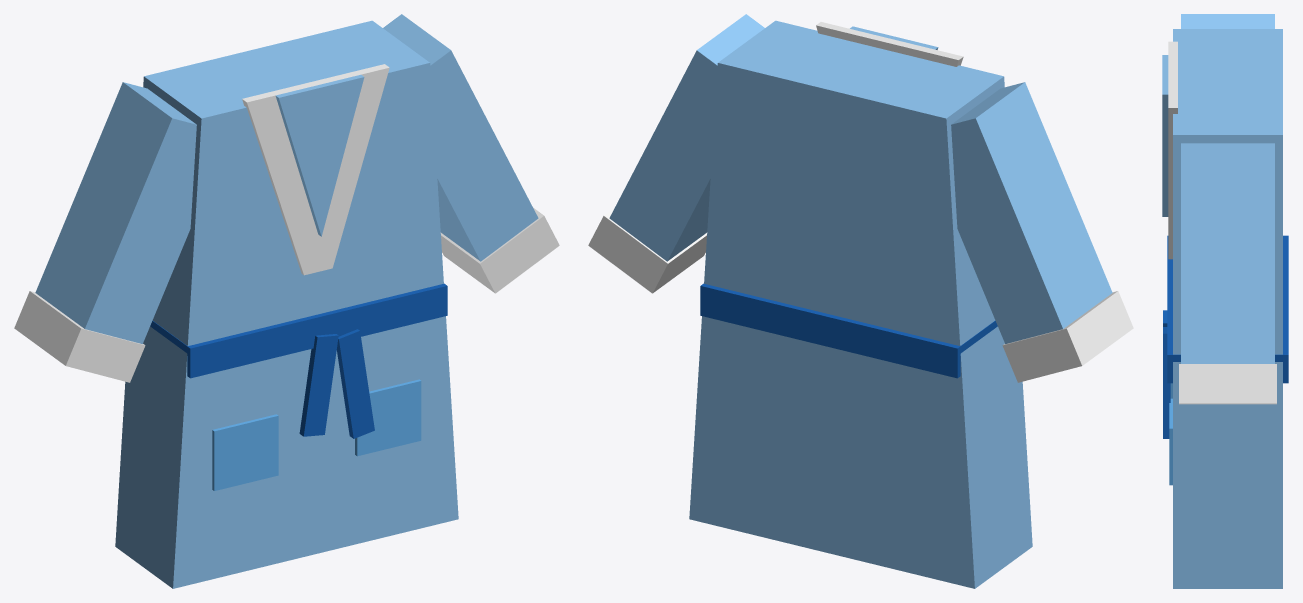
File: morgonrock.glb
The picture shows the model from 3 angles, left to right: view 1: azimuth 30°, elevation 25°; view 2: azimuth 150°, elevation 25°; view 3: azimuth 270°, elevation 25°; orthographic projection. The views are drawn at different scales.
Parts seen in each view (by area): view 1: morgonrock; view 2: morgonrock; view 3: morgonrock.
Boxes of the visible parts, bbox=[...] form: morgonrock: bbox=[14, 14, 559, 588]; morgonrock: bbox=[588, 14, 1133, 588]; morgonrock: bbox=[1162, 14, 1288, 588].
Size of the model in its own units: 0.6918 by 0.63 by 0.1615.
